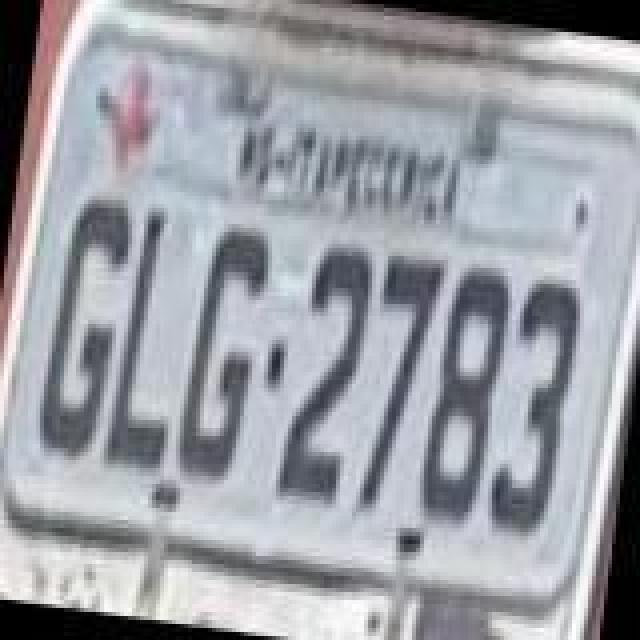2: (272, 234, 384, 518)
3: (484, 268, 588, 532)
7: (348, 238, 452, 514)
8: (412, 256, 516, 528)
G: (36, 182, 140, 458), (172, 216, 276, 488)
L: (102, 202, 202, 478)
